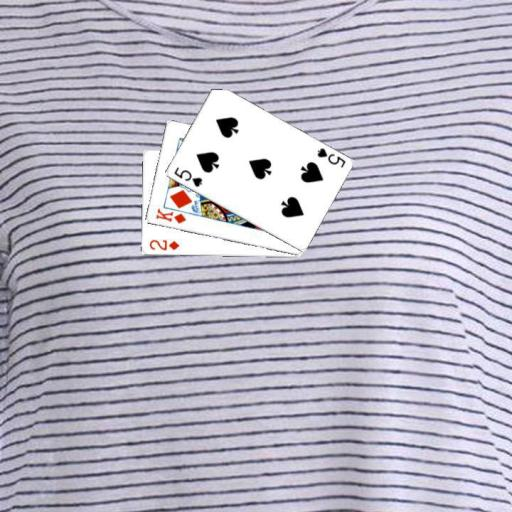2D: (146, 237, 181, 252)
5S: (314, 145, 347, 169), (171, 165, 203, 189)
KD: (152, 206, 188, 226)
